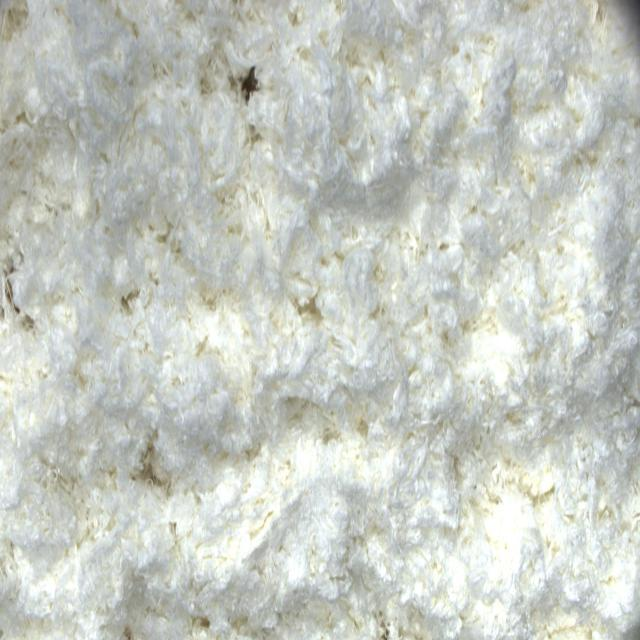dust: (232, 63, 267, 103)
